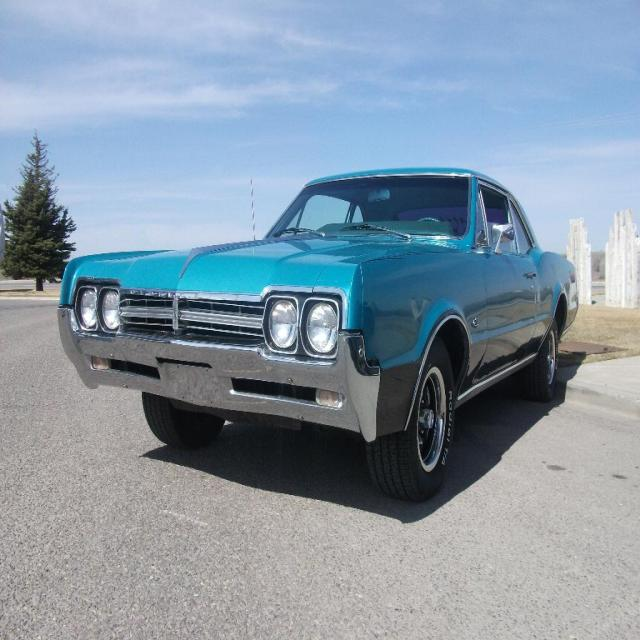car: (57, 161, 580, 492)
